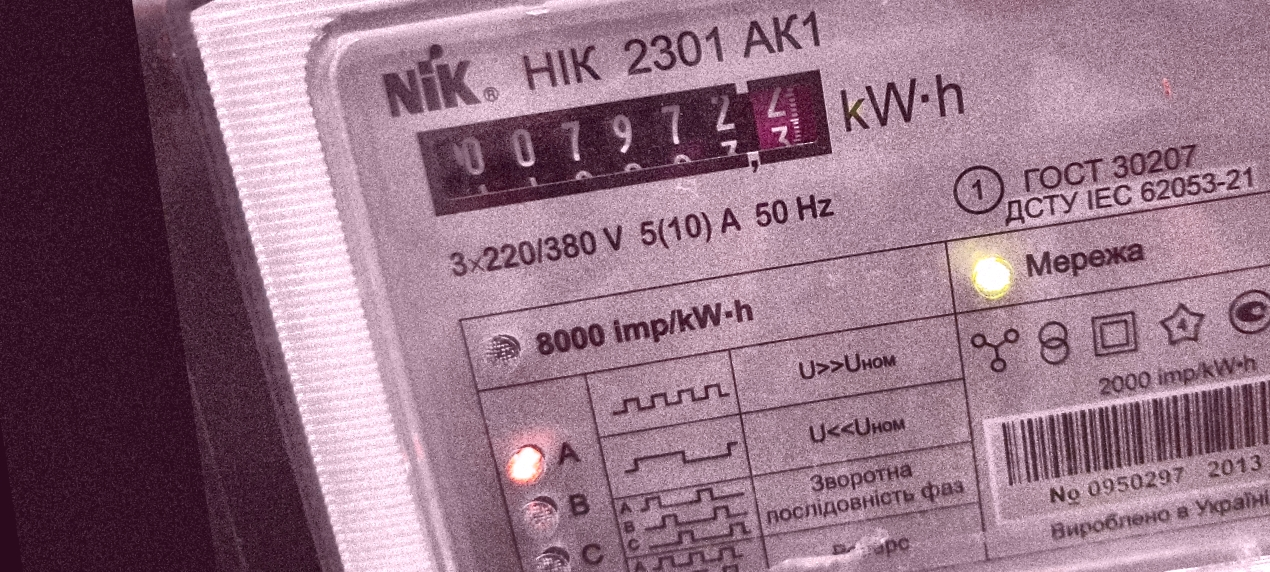0: (457, 132, 489, 176), (508, 123, 538, 168)
2: (709, 91, 737, 132), (760, 84, 787, 120)
3: (767, 121, 793, 149)
7: (657, 99, 689, 148), (557, 116, 588, 164)
9: (608, 109, 636, 155)
screen: (398, 53, 852, 232)
